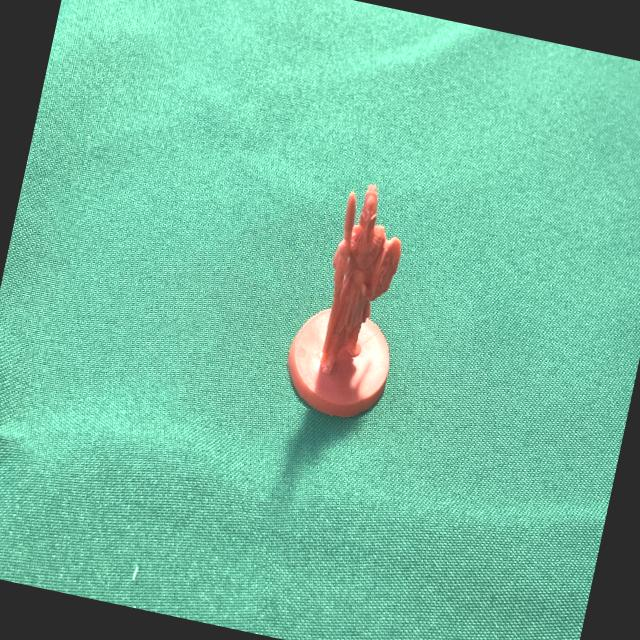amon_follower: (288, 184, 400, 416)
